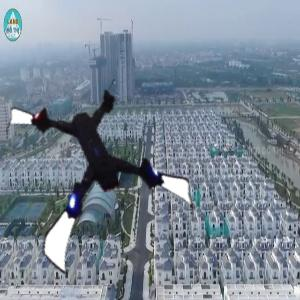drone: (15, 82, 197, 264)
